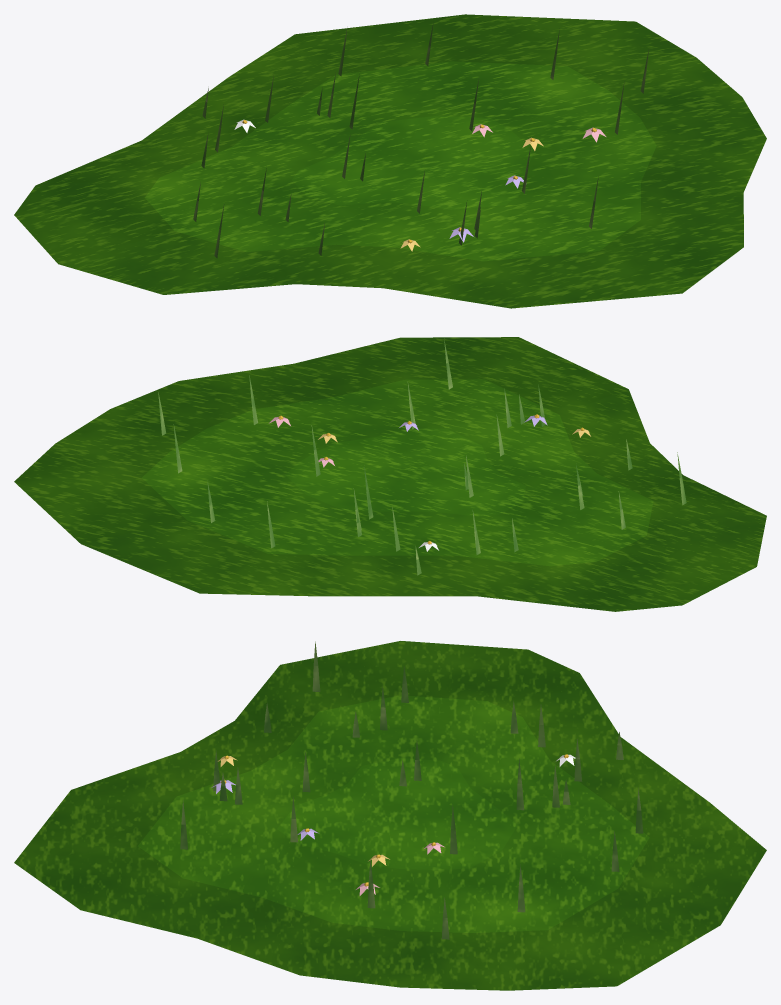
Rendered from turf_patch_sky_b.glb.
The picture shows the model from 3 angles, top to bottom: view 1: azimuth 30°, elevation 25°; view 2: azimuth 150°, elevation 25°; view 3: azimuth 270°, elevation 25°; orthographic projection. The views are drawn at different scales.
Visible parts, largest first — view 1: turf_patch_sky_b; view 2: turf_patch_sky_b; view 3: turf_patch_sky_b.
Boxes of the visible parts, x1,y1,x2,y2 form: turf_patch_sky_b: (14, 14, 766, 308); turf_patch_sky_b: (14, 337, 766, 611); turf_patch_sky_b: (14, 641, 766, 990).
Bounding box in the file's own units: 5.25 × 0.4551 × 4.77.
3 materials, 2 textured.
